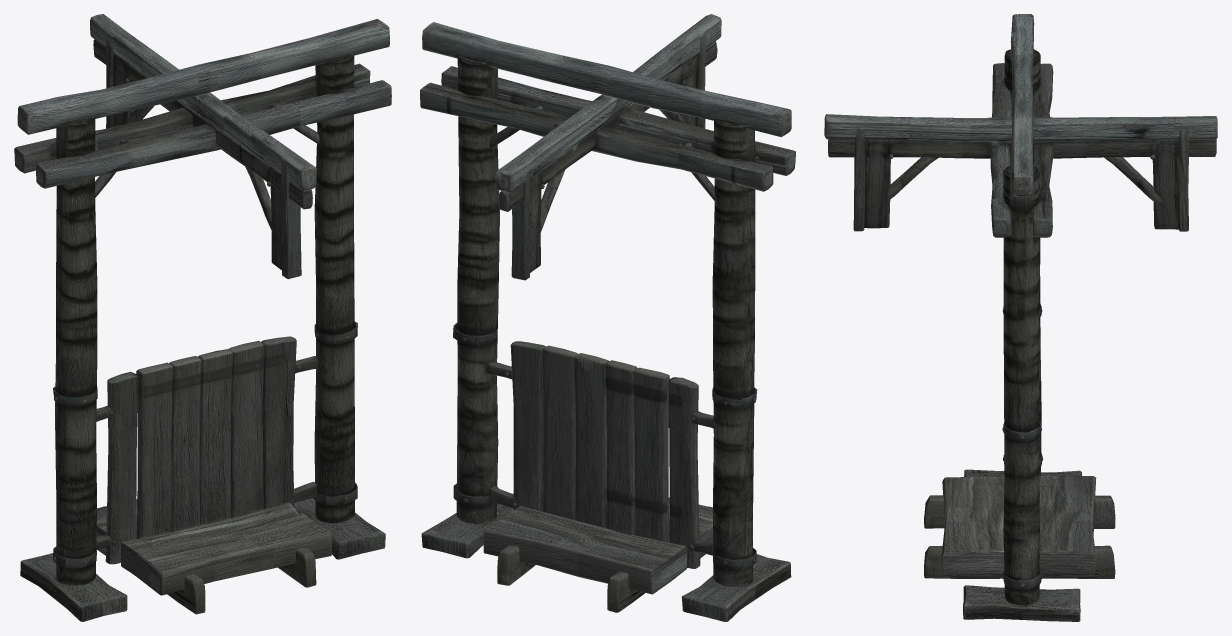
File: testere_cerceve.glb
3 views of the same model, side by side, from view 1: azimuth 30°, elevation 25°; view 2: azimuth 150°, elevation 25°; view 3: azimuth 270°, elevation 25° (orthographic). The views are drawn at different scales.
Parts seen in each view (by area): view 1: Mesh_0; view 2: Mesh_0; view 3: Mesh_0.
Part boxes in pixels (left/top/right/bottom): Mesh_0: left=14, top=14, right=391, bottom=621; Mesh_0: left=420, top=14, right=795, bottom=621; Mesh_0: left=824, top=14, right=1217, bottom=621.
Size of the model in its own units: 0.7668 by 1 by 0.7801.
Materials: 1 (1 with a texture image).
